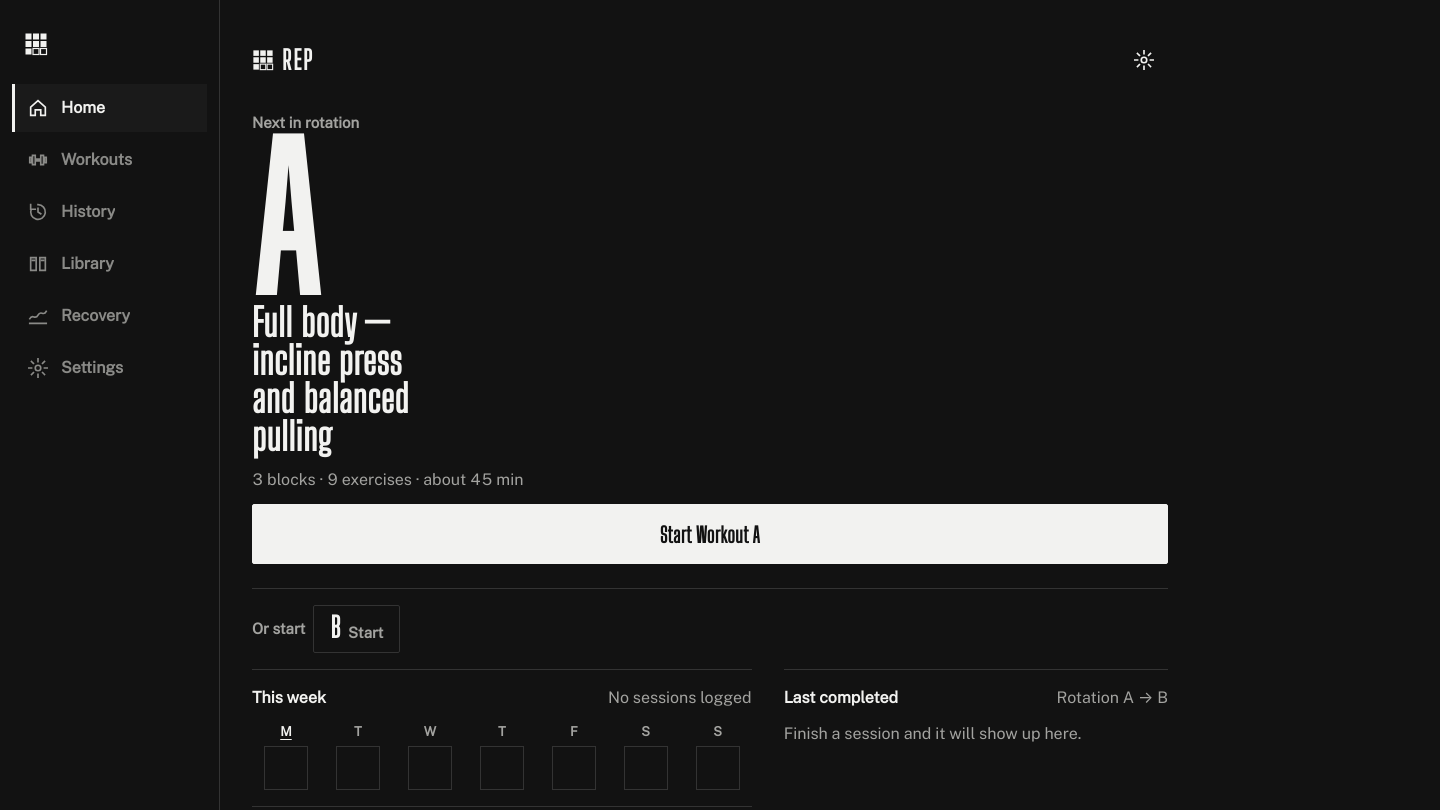
Scenario: Active workout › quick complete asks before logging prescribed values, then advances
This screenshot has width=1440, height=810.
Click the button "Start Workout A" at x=710, y=534, box [252,504,1168,564]
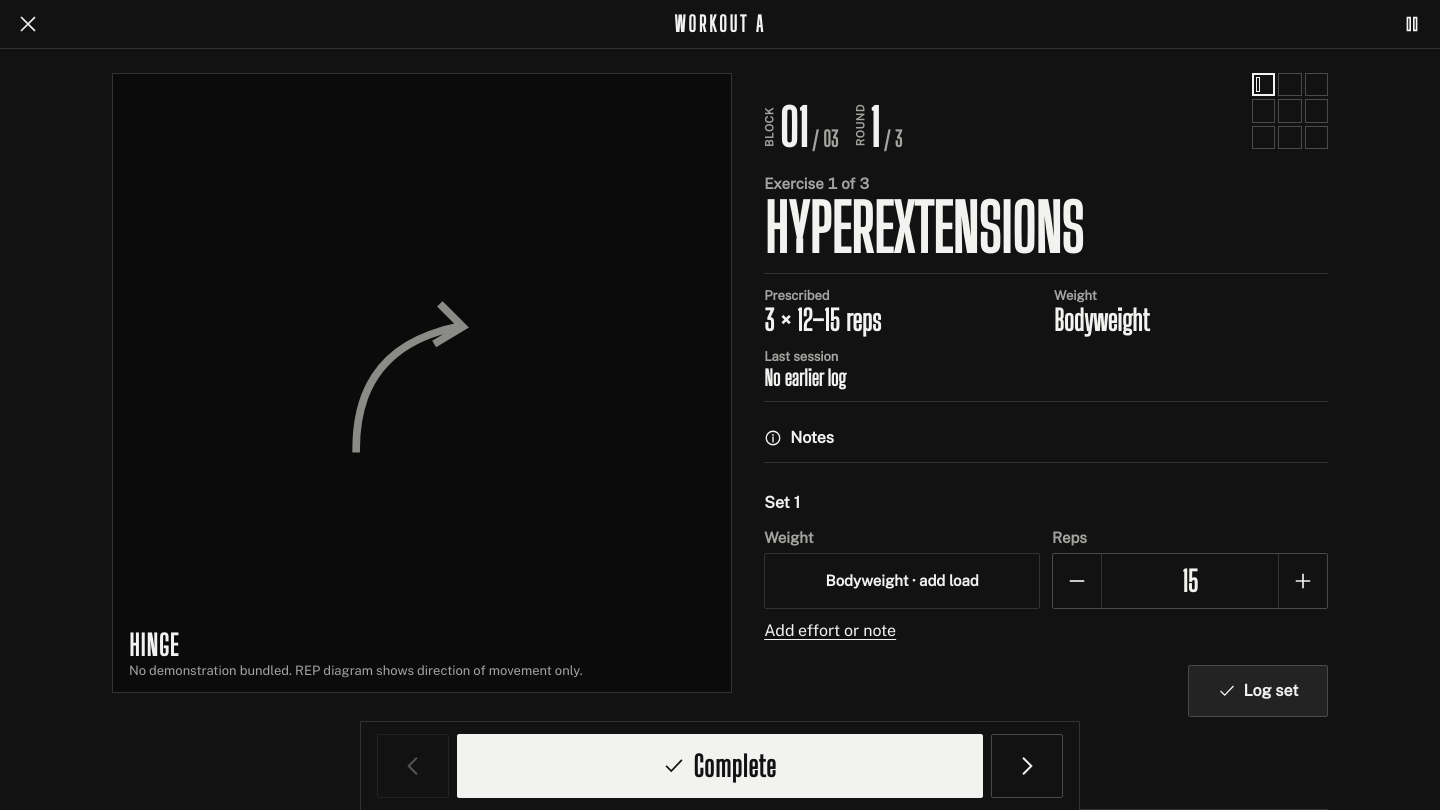
Expected: the heading "Hyperextensions" is shown, [764,190,1083,266]
Click the button named "Next exercise" at x=1027, y=766, box [991,734,1063,798]
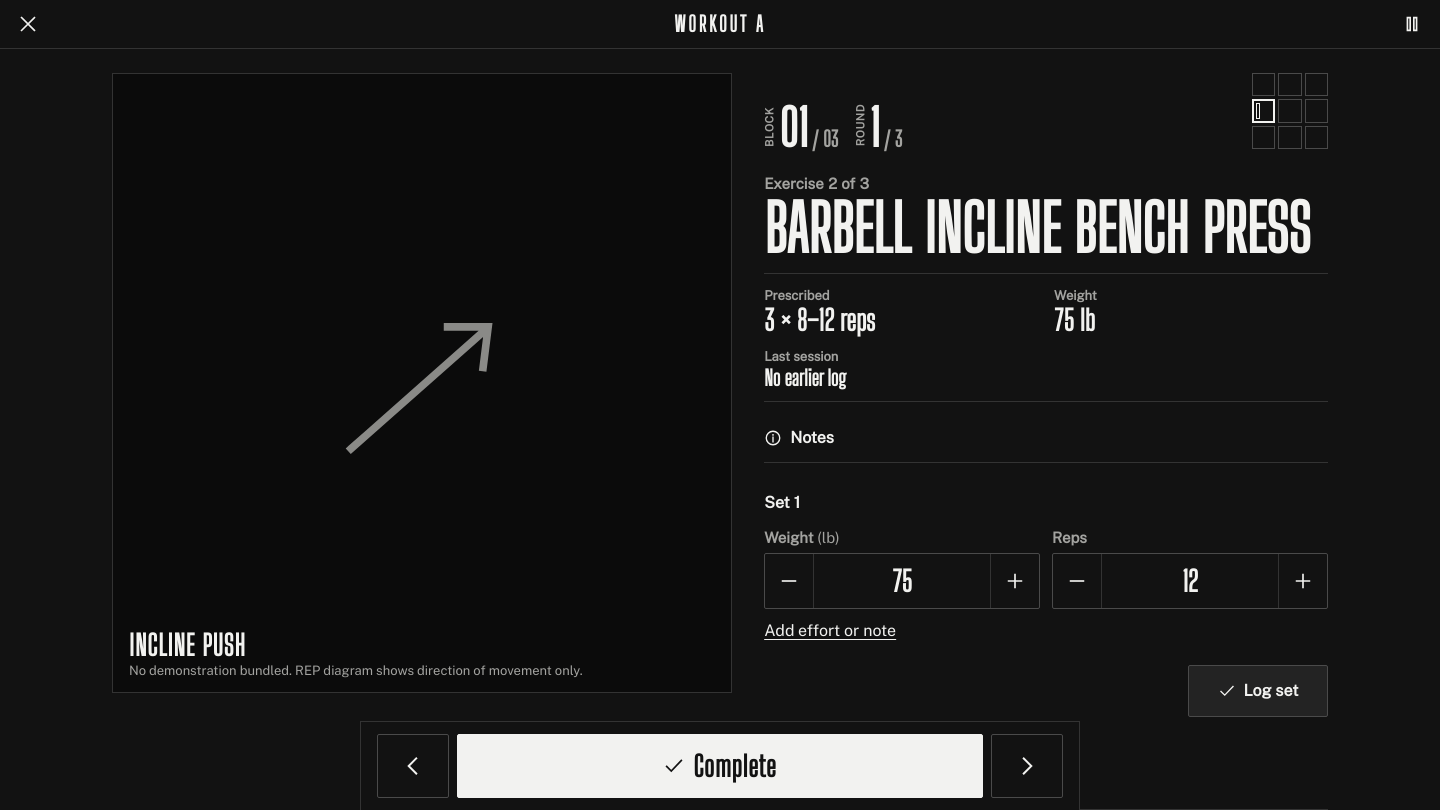
Expected: the heading "Barbell incline bench press" is shown, [764,200,1328,257]
Expected: the text "75 lb" is shown, [1054,303,1095,337]
Click the button "Complete" at x=720, y=766, box [457,734,983,798]
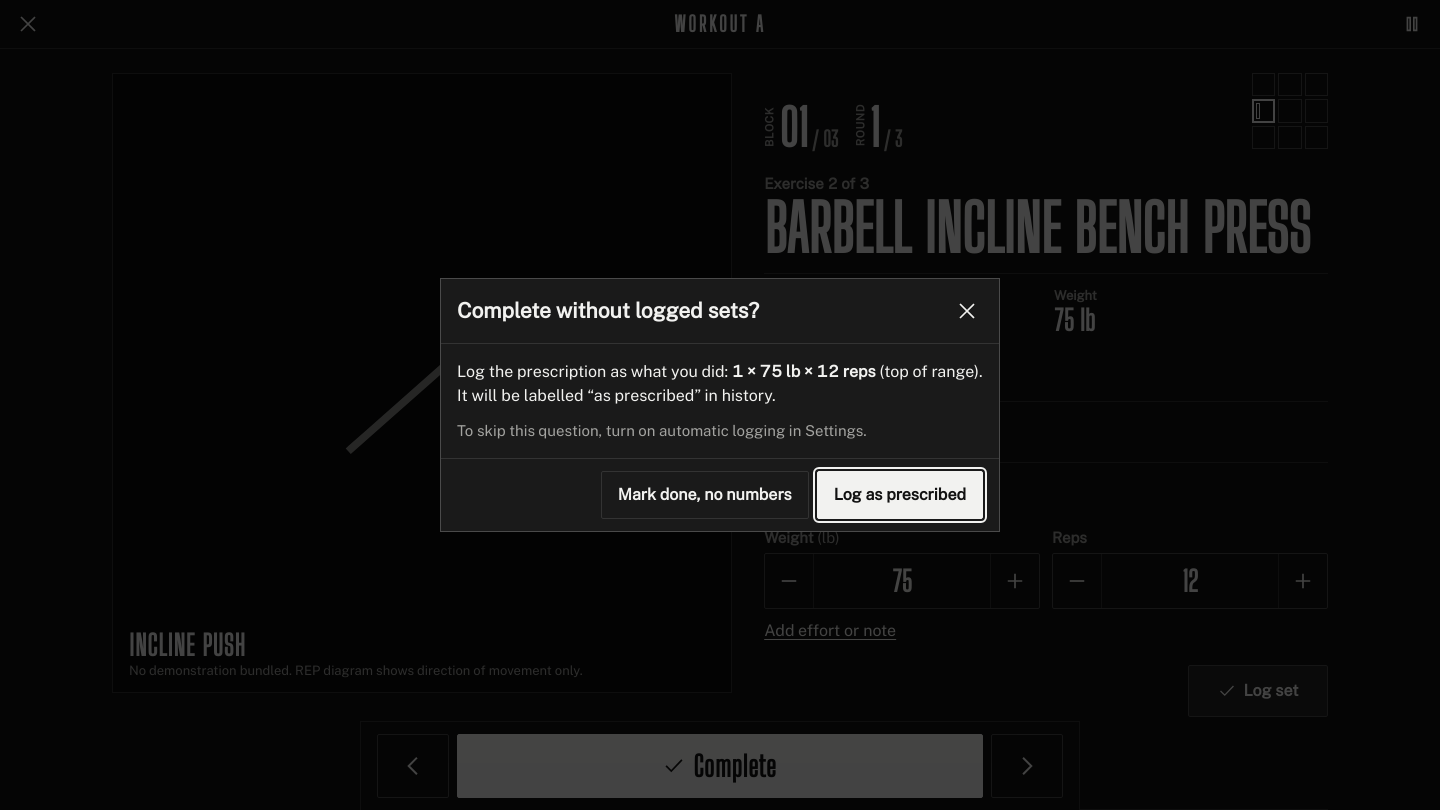
Expected: the dialog "Complete without logged sets?" shows "75 lb × 12 reps", [440,278,1000,532]
Click the button "Log as prescribed" at x=900, y=495, box [817,471,983,519]
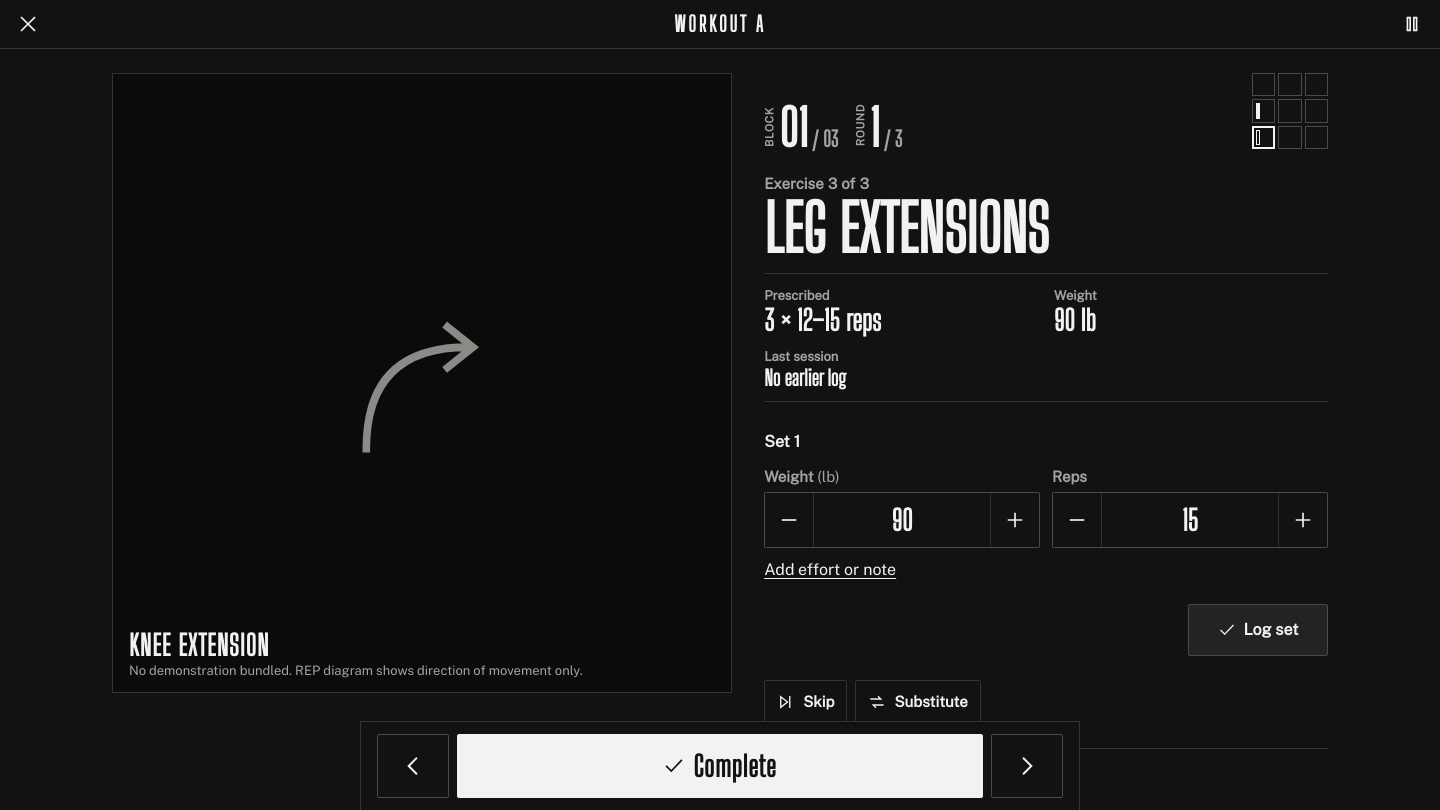
Expected: the heading "Leg extensions" is shown, [764,190,1049,266]
